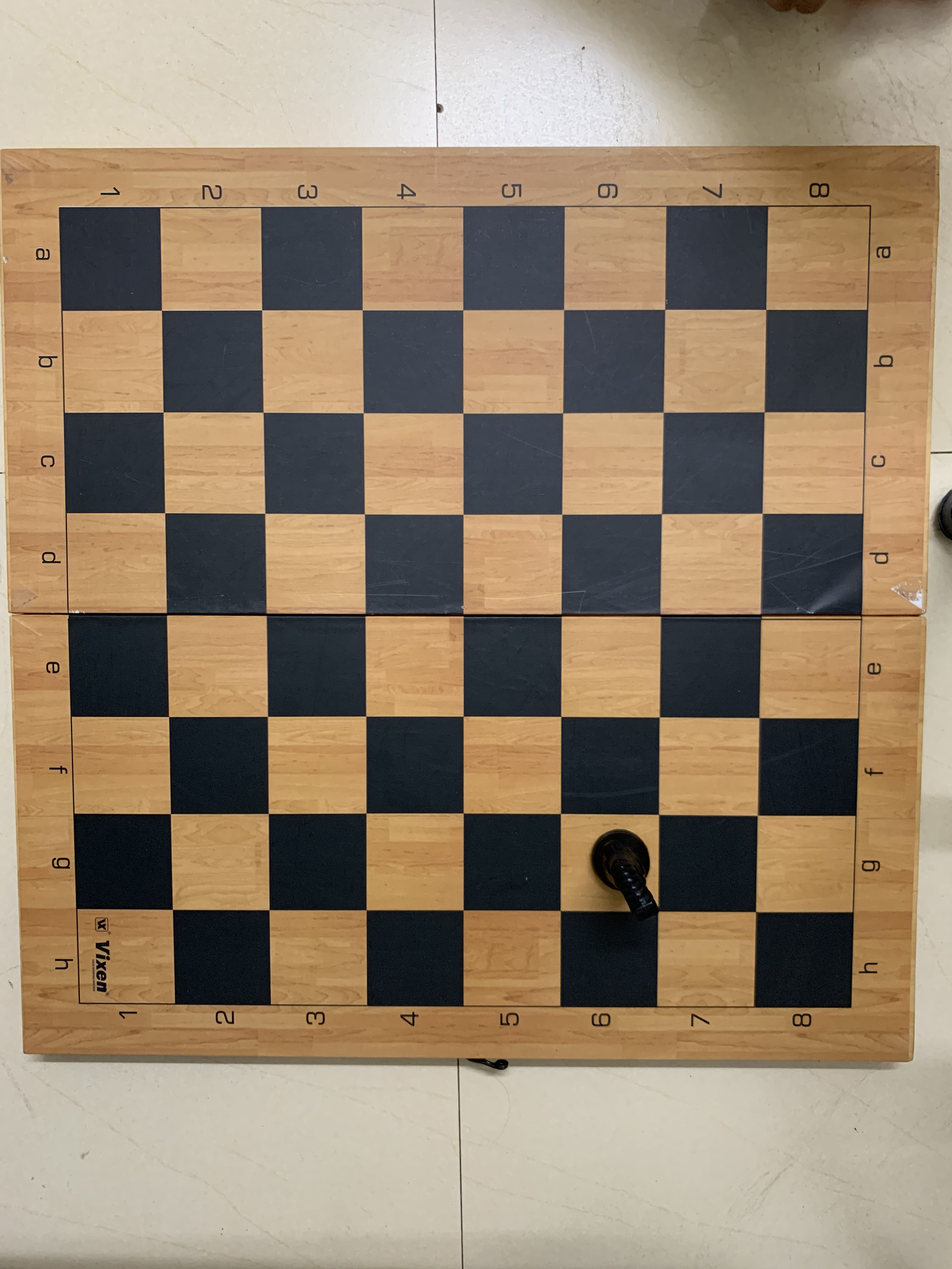black_knight: (562, 815, 662, 922)
